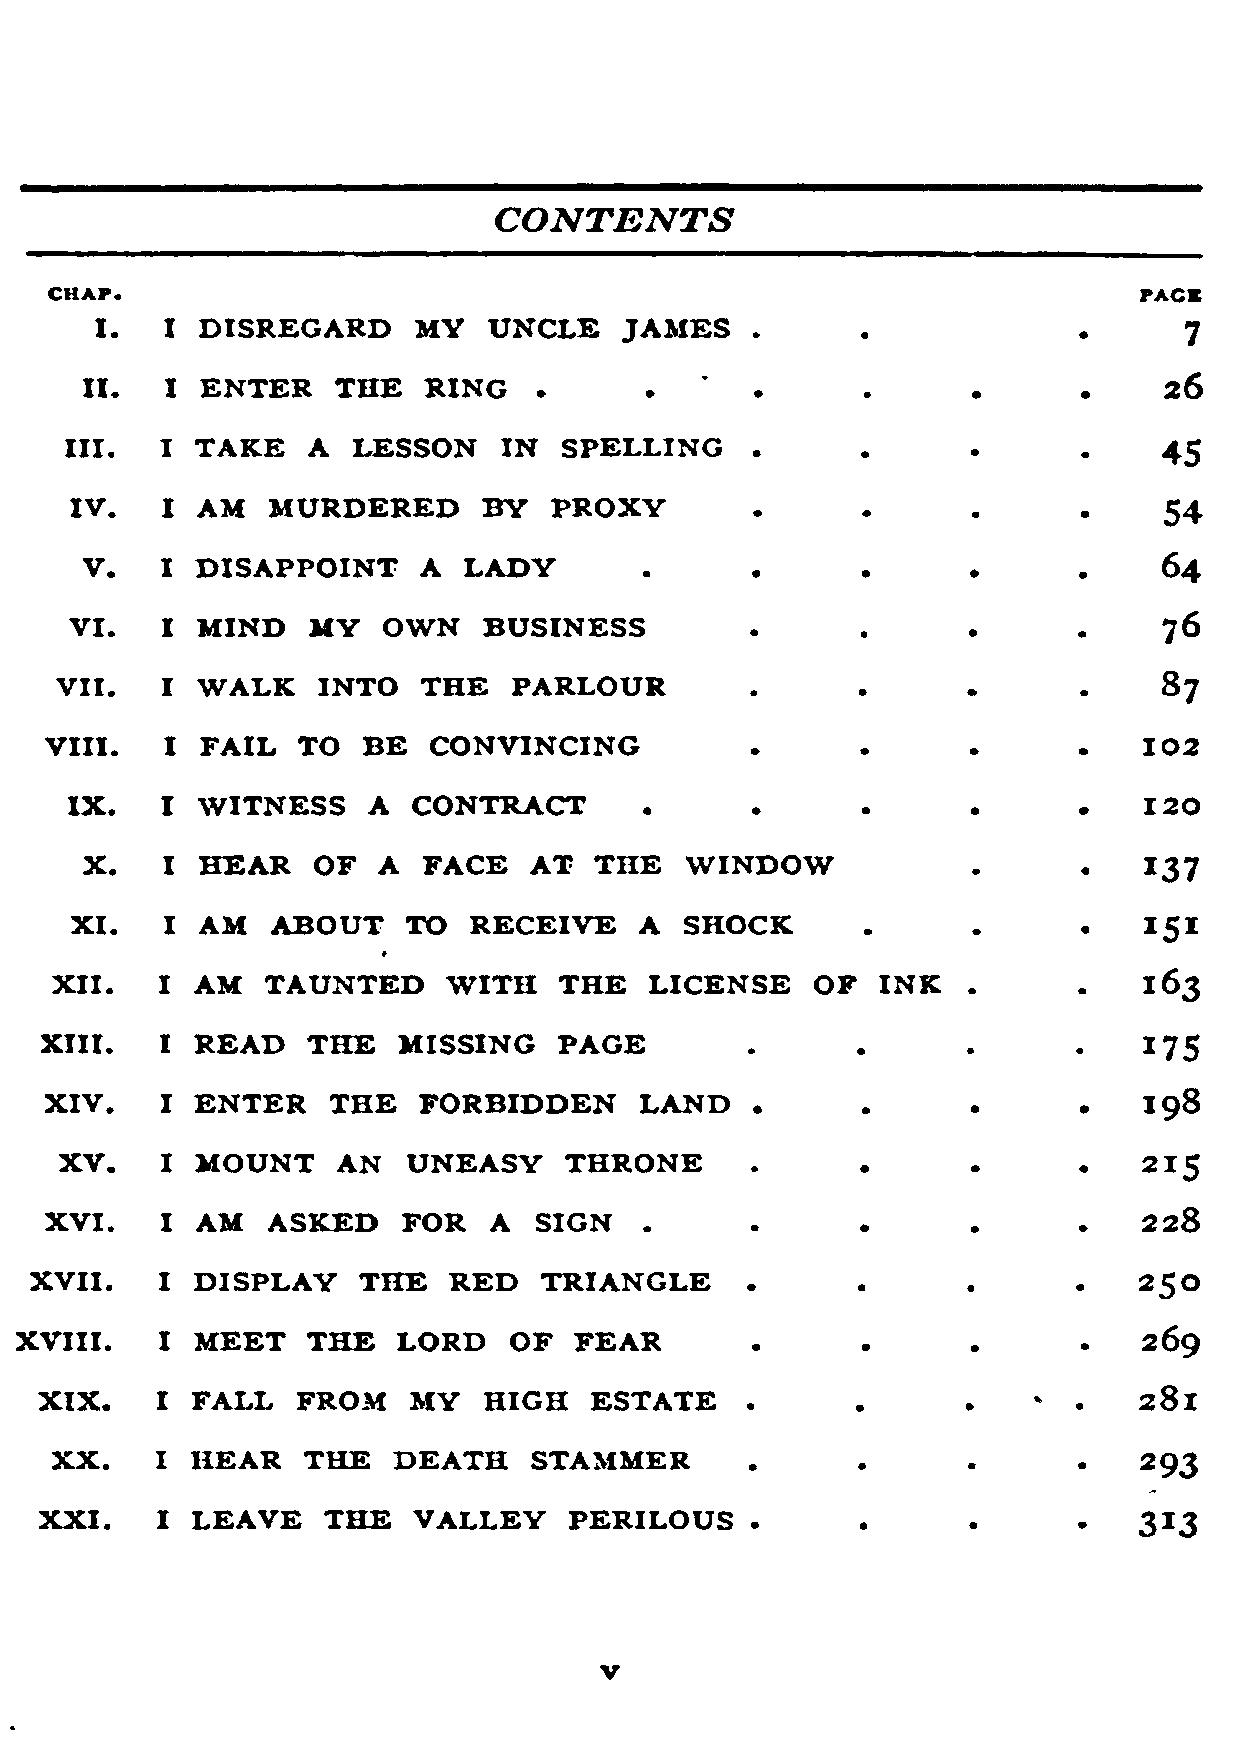TOC_chapter: (46, 964, 950, 1002), (85, 306, 731, 348), (63, 906, 798, 939), (76, 848, 837, 879), (25, 1266, 717, 1299), (36, 1087, 734, 1119), (32, 1024, 651, 1060), (34, 1504, 738, 1535), (56, 431, 727, 463), (56, 1143, 710, 1176), (52, 670, 678, 702), (64, 611, 654, 644), (66, 491, 670, 523), (38, 1205, 616, 1239), (32, 1388, 721, 1414), (13, 1327, 667, 1355), (42, 731, 647, 761), (63, 788, 592, 821), (47, 1448, 696, 1474), (70, 370, 513, 407), (74, 552, 560, 582)
TOC_pagenumber: (1133, 1260, 1205, 1304), (1139, 964, 1205, 1007), (1139, 1500, 1202, 1545), (1129, 725, 1206, 760), (1138, 845, 1202, 887), (1138, 1323, 1204, 1363), (1135, 1380, 1198, 1420), (1139, 1441, 1200, 1483), (1139, 1147, 1202, 1186), (1139, 1202, 1205, 1239), (1142, 1028, 1204, 1066), (1139, 789, 1204, 823), (1142, 1084, 1202, 1119), (1142, 909, 1200, 943), (1155, 548, 1202, 589), (1159, 431, 1206, 471), (1159, 607, 1204, 648), (1161, 490, 1202, 531), (1159, 668, 1202, 709), (1162, 370, 1213, 404), (1180, 315, 1205, 352)
chapter: (487, 199, 739, 240)
content_pagenumber: (595, 1659, 625, 1683)
